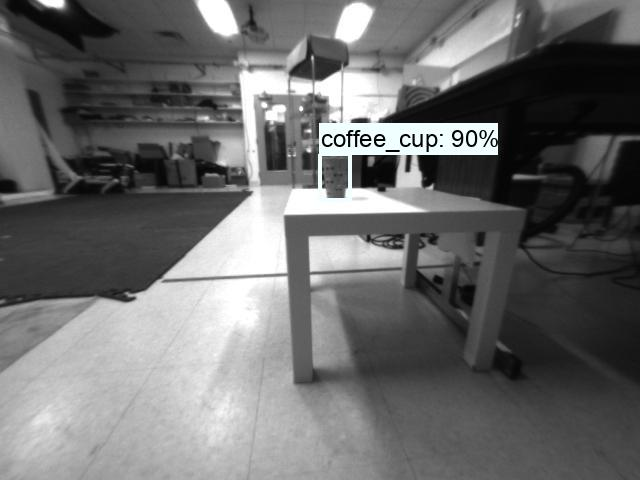coffee_cup: (319, 156, 350, 199)
